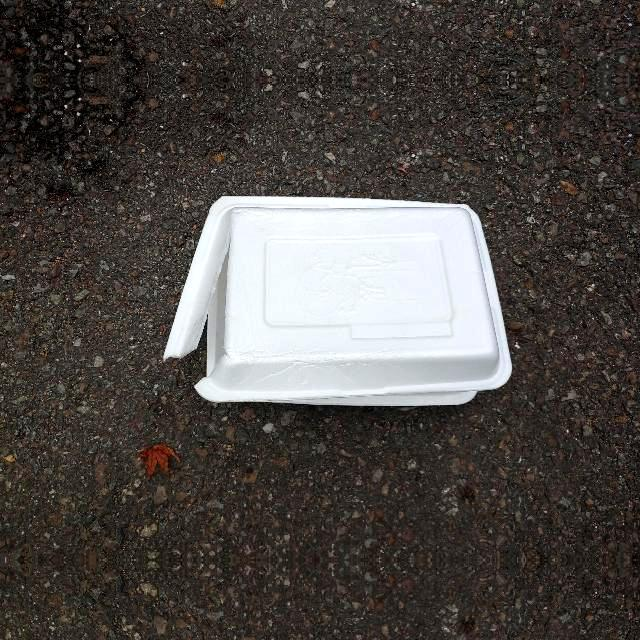Styrofoam: (161, 194, 515, 406), (163, 196, 513, 406)
